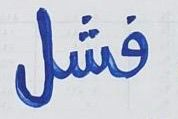lam: (11, 5, 59, 109)
qaf: (116, 14, 152, 80)
sheen: (61, 13, 114, 80)
